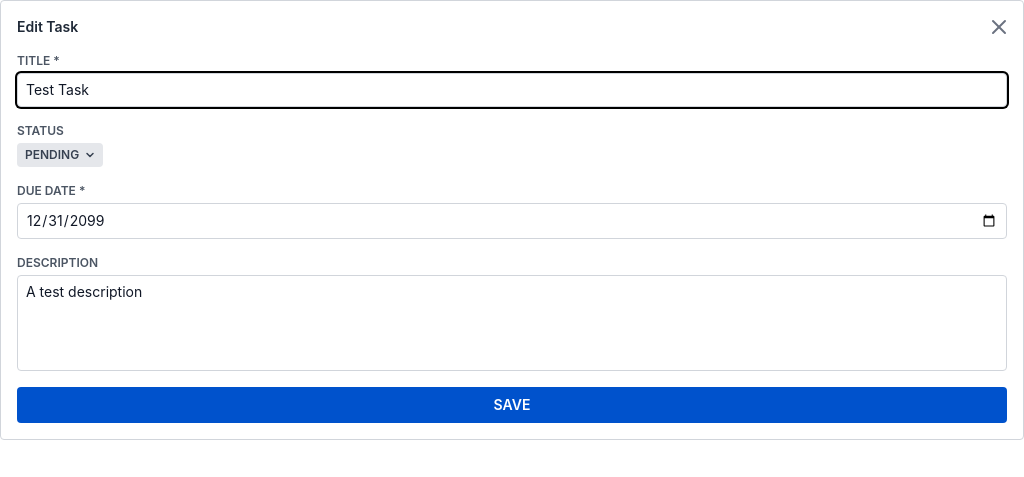
it: TaskForm (edit side panel) › shows validation error when title is cleared and saved
The image size is (1024, 477).
Clear the field showing "Test Task": (512, 90) [17, 73, 1007, 107]
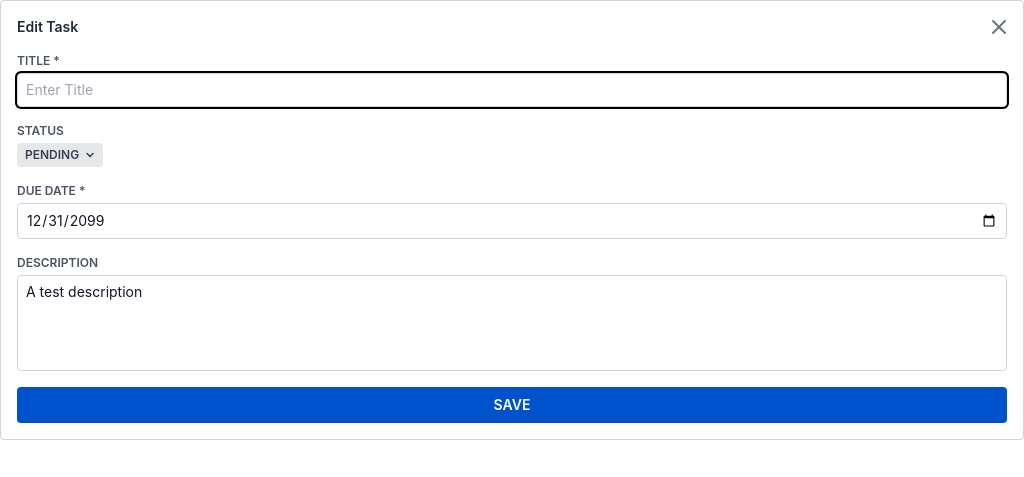
Click the button "Save": (512, 405) [17, 387, 1007, 423]
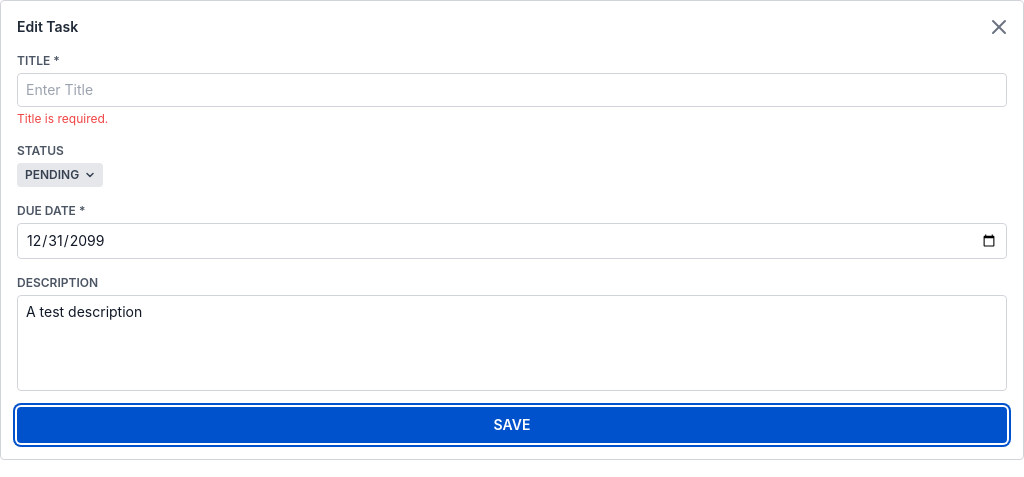
Check: the message shows "Title is required", box [17, 111, 108, 126]
